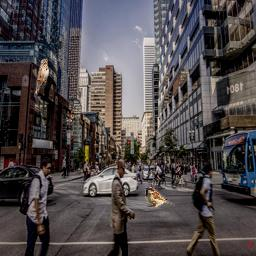Sparrow: (34, 58, 49, 98), (145, 187, 175, 207)
